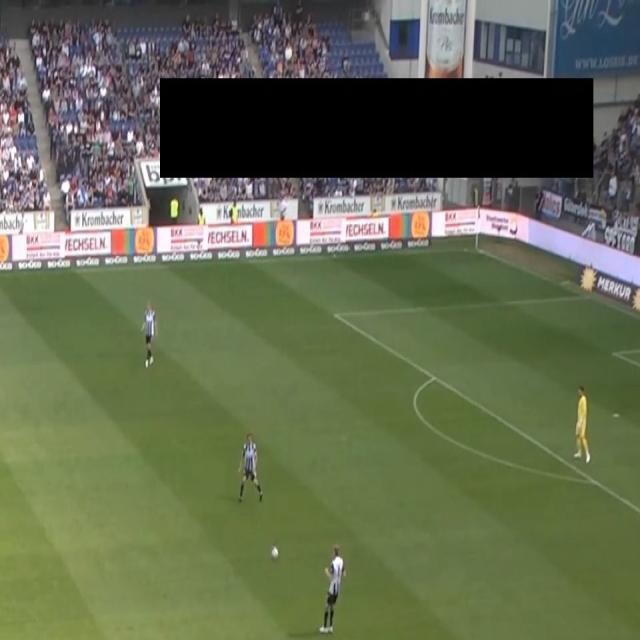ball: (271, 544, 279, 562)
